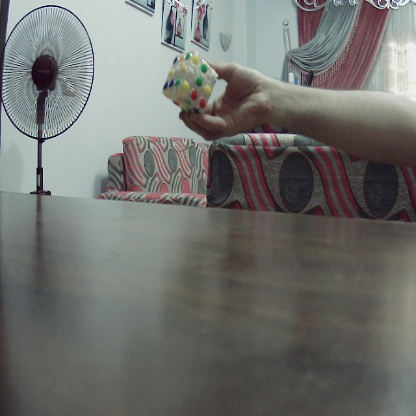Rubix Cube: (163, 54, 219, 113)
